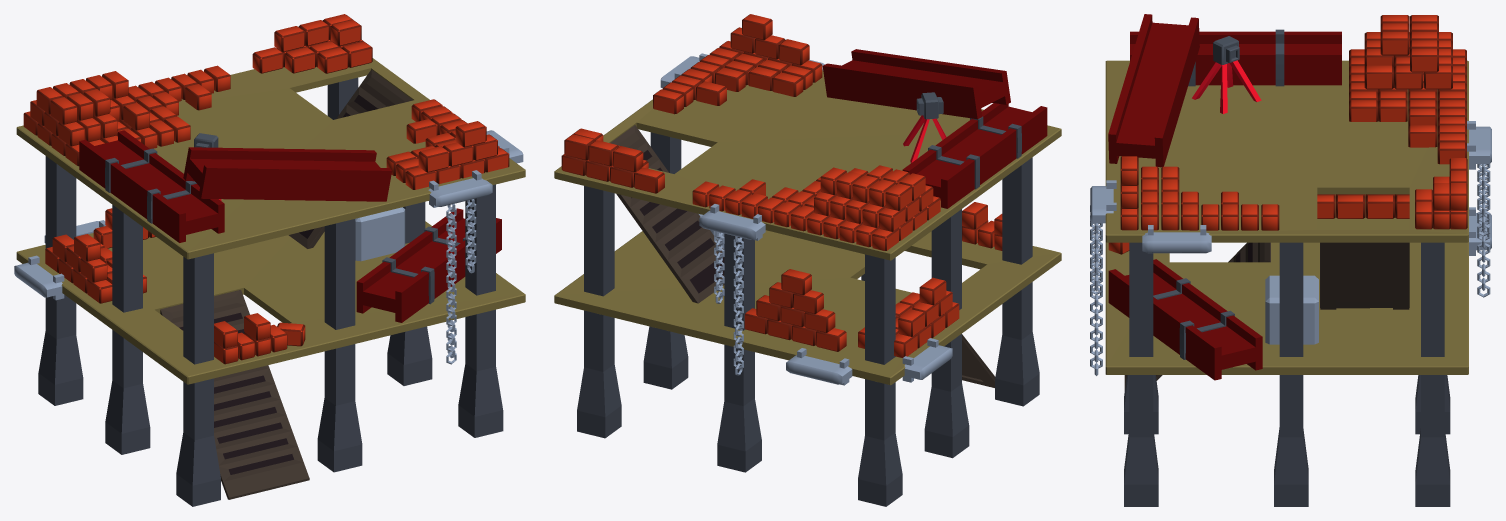
The model's file is Construction site.FBX.
The picture shows the model from 3 angles, left to right: view 1: azimuth 30°, elevation 25°; view 2: azimuth 150°, elevation 25°; view 3: azimuth 270°, elevation 25°; orthographic projection. The views are drawn at different scales.
Parts seen in each view (by area): view 1: Object009; view 2: Object009; view 3: Object009.
Boxes of the visible parts, x1,y1,x2,y2 form: Object009: (14,14,525,506); Object009: (554,14,1061,506); Object009: (1090,14,1491,506).
Bounding box in the file's own units: 131 × 108 × 113.
